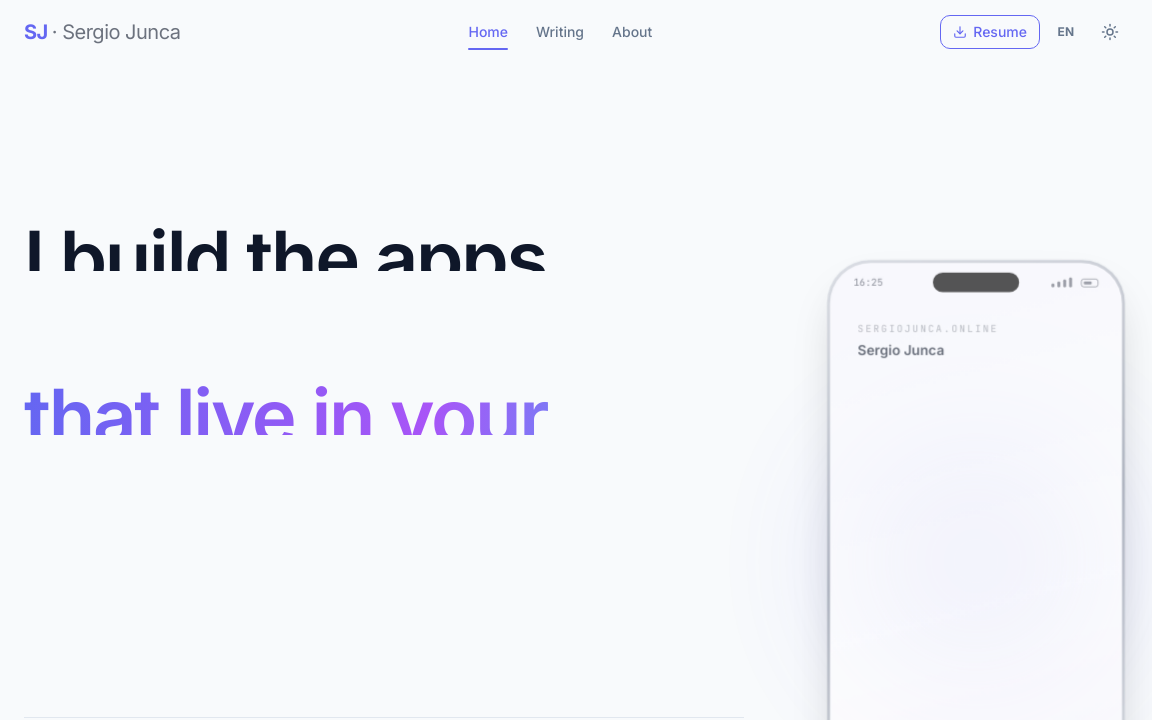
Test case: theme preference › switches theme, swaps the button label and persists the choice
The width and height of the screenshot is (1152, 720).
Click the button named "Switch to dark mode": (1110, 32) [1092,14,1128,50]
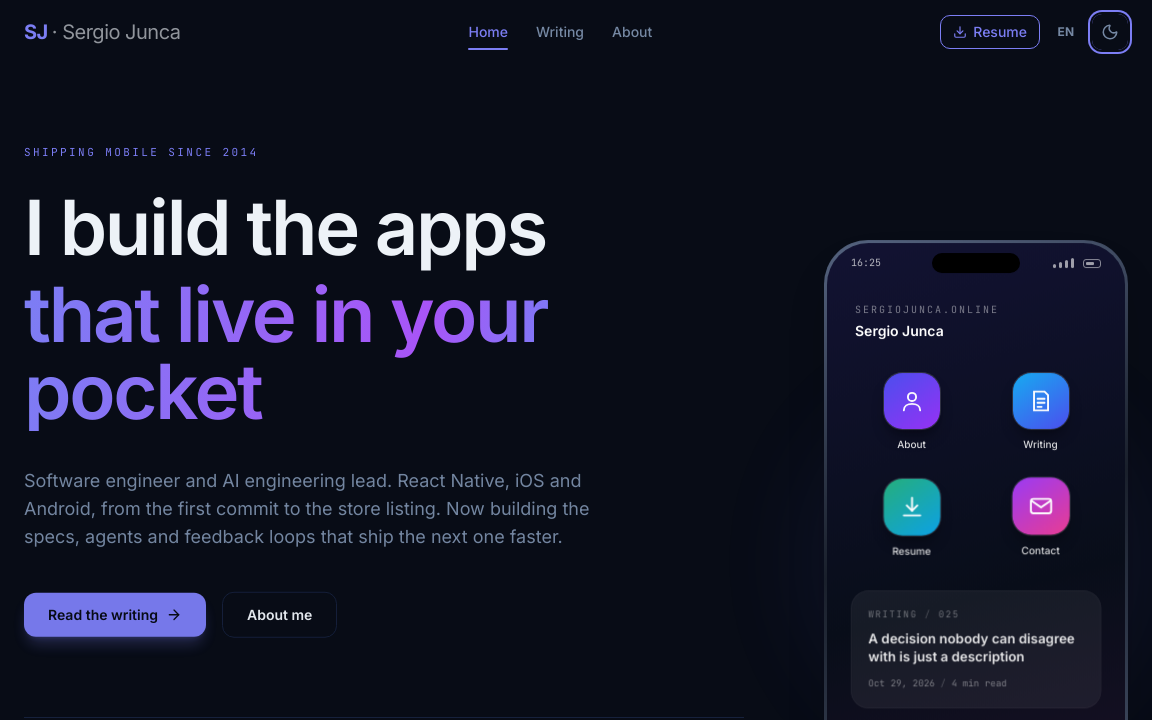
Expected: the button named "Switch to light mode" is shown, [1092,14,1128,50]
